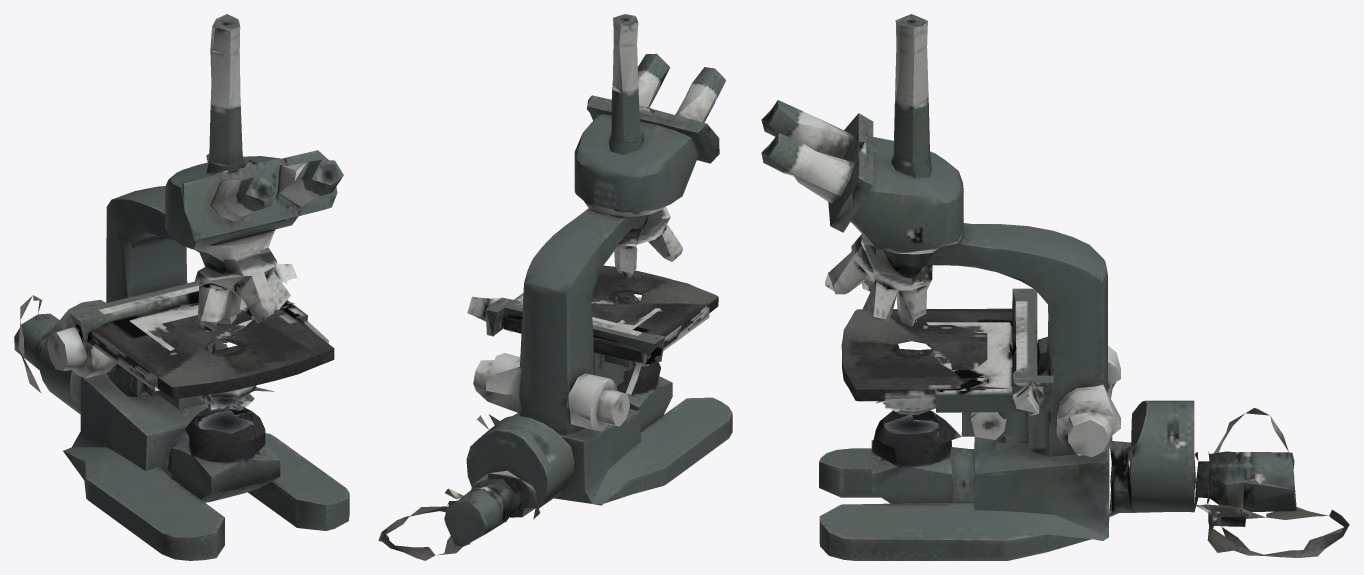
Rendered from microscope.glb.
The picture shows the model from 3 angles, left to right: view 1: azimuth 30°, elevation 25°; view 2: azimuth 150°, elevation 25°; view 3: azimuth 270°, elevation 25°; orthographic projection. The views are drawn at different scales.
Parts seen in each view (by area): view 1: mesh; view 2: mesh; view 3: mesh.
Boxes of the visible parts, bbox=[...] form: mesh: bbox=[14, 14, 349, 560]; mesh: bbox=[378, 14, 732, 560]; mesh: bbox=[761, 14, 1349, 560].
Size of the model in its own units: 0.215 by 0.46 by 0.4939.
1 material, 1 textured.
